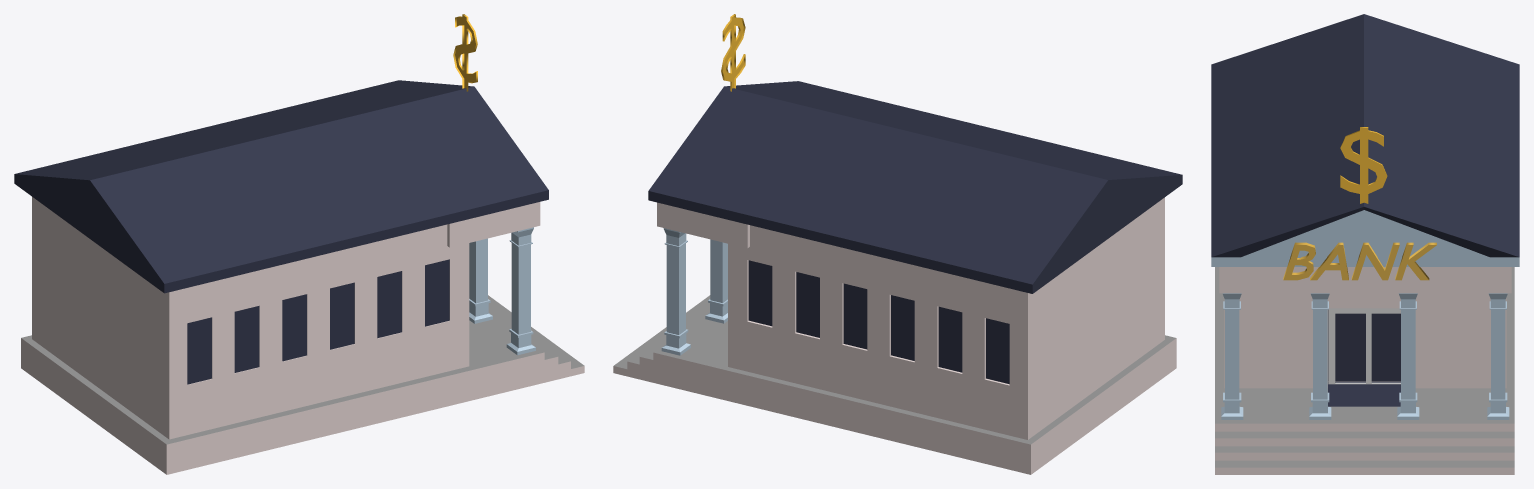
Rendered from Bank_tran.glb.
3 renders of one model, left to right at view 1: azimuth 30°, elevation 25°; view 2: azimuth 150°, elevation 25°; view 3: azimuth 270°, elevation 25°, orthographic. The views are drawn at different scales.
Parts seen in each view (by area): view 1: court house, Text.010; view 2: court house, Text.010; view 3: court house, Text.011, Text.010.
Boxes of the visible parts, box(x1,y1,x2,y2) form: court house: box(14, 80, 584, 474); Text.010: box(453, 14, 477, 91); court house: box(613, 81, 1182, 474); Text.010: box(721, 14, 745, 91); court house: box(1211, 14, 1519, 474); Text.011: box(1283, 242, 1436, 280); Text.010: box(1340, 127, 1387, 203).
Bounding box in the file's own units: 0.4724 × 0.3374 × 0.291.
